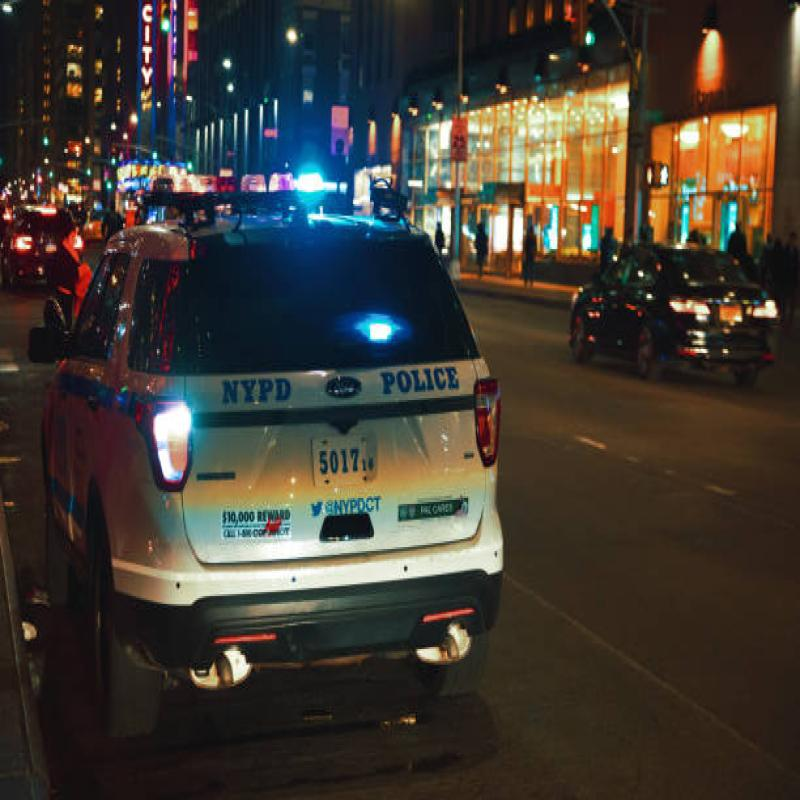AmbulanceSiren: (138, 164, 413, 258)
